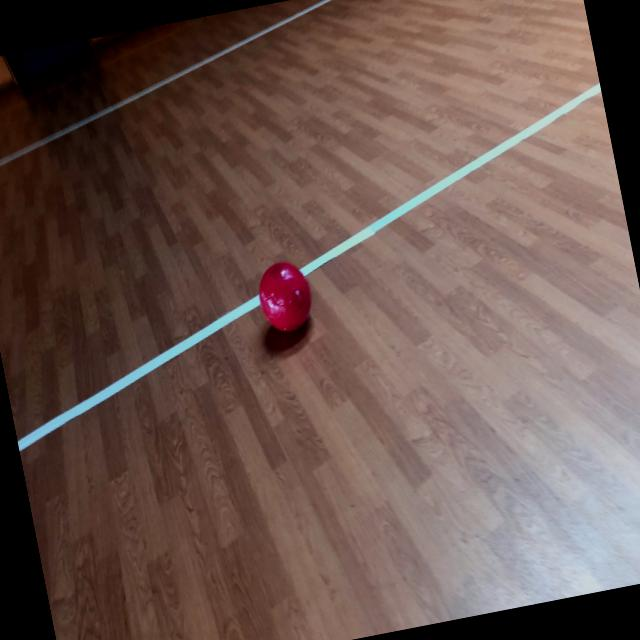red_ball: (255, 258, 318, 336)
